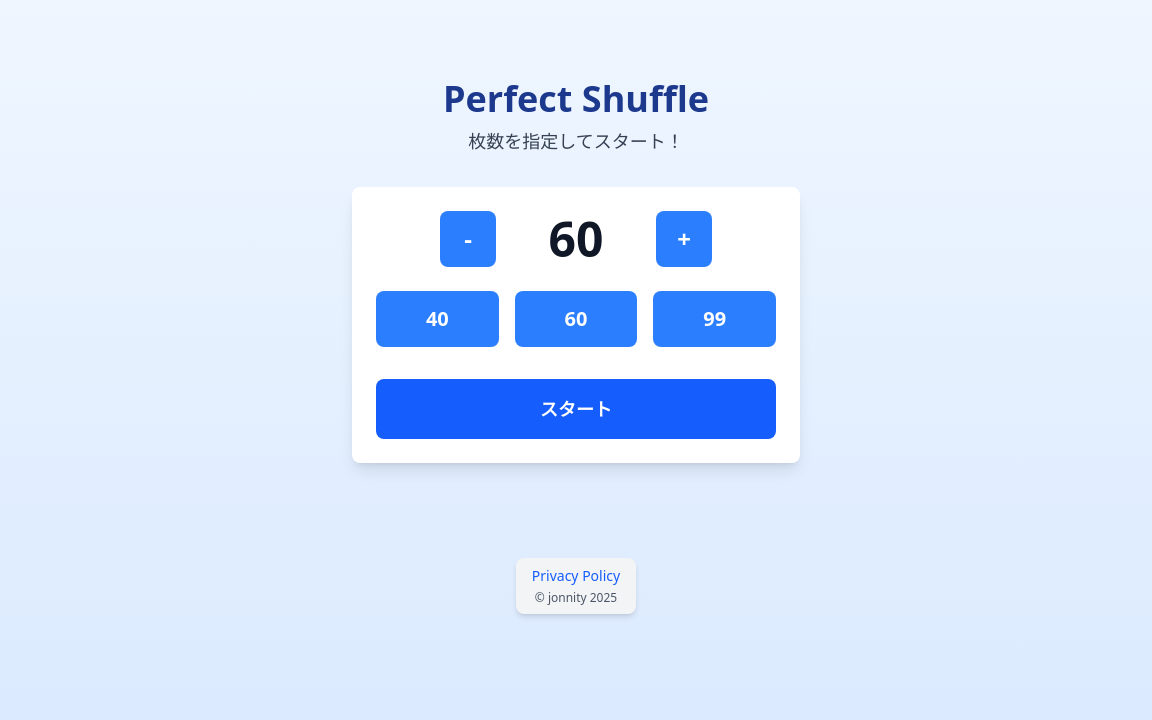
Scenario: ユーザーフロー統合テスト › フロー3: クイック選択と中断フロー › 複数のクイック選択ボタンが正しく動作する
Expected: the heading "Perfect Shuffle" is shown, [443,74,709,123]
Note: クイック選択ボタン（40枚）をクリック
What coordinates should you click on to do the following:
click the button named "40枚を選択"
I would click on:
 (437, 319)
Its box is [376,291,499,347].
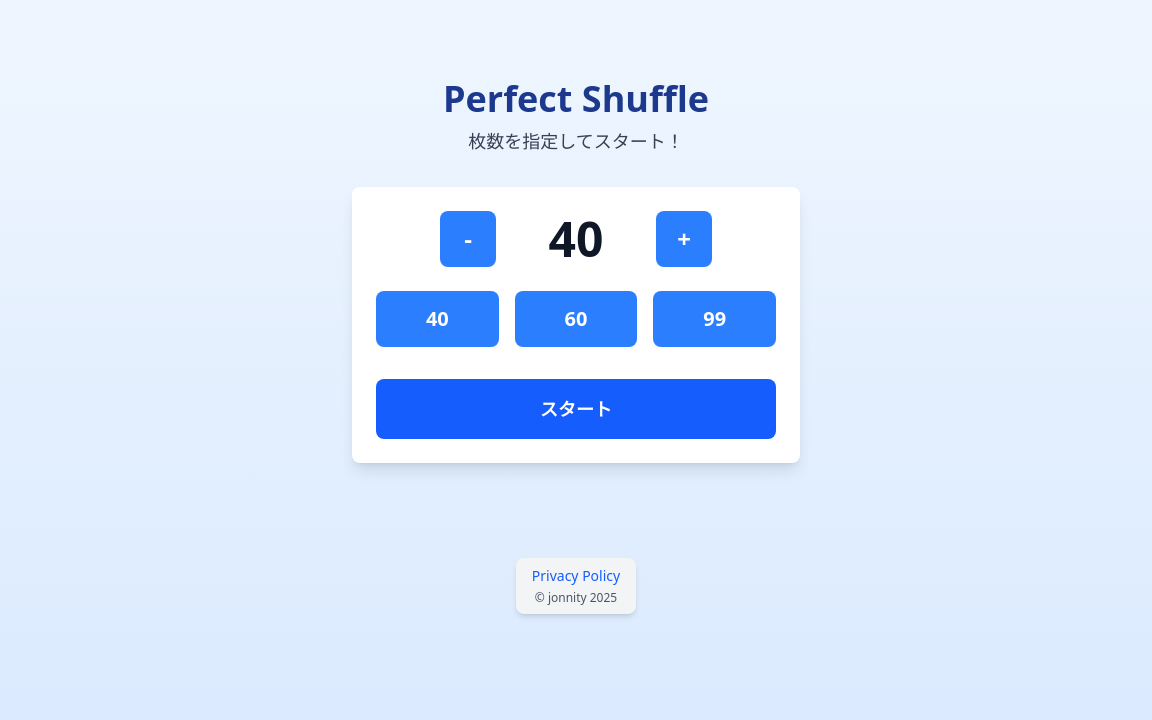
Result: the text "40" is shown at [548,206,603,271]
Note: クイック選択ボタン（60枚）をクリック
What coordinates should you click on to do the following:
click the button named "60枚を選択"
I would click on:
 (576, 319)
Its box is [515,291,637,347].
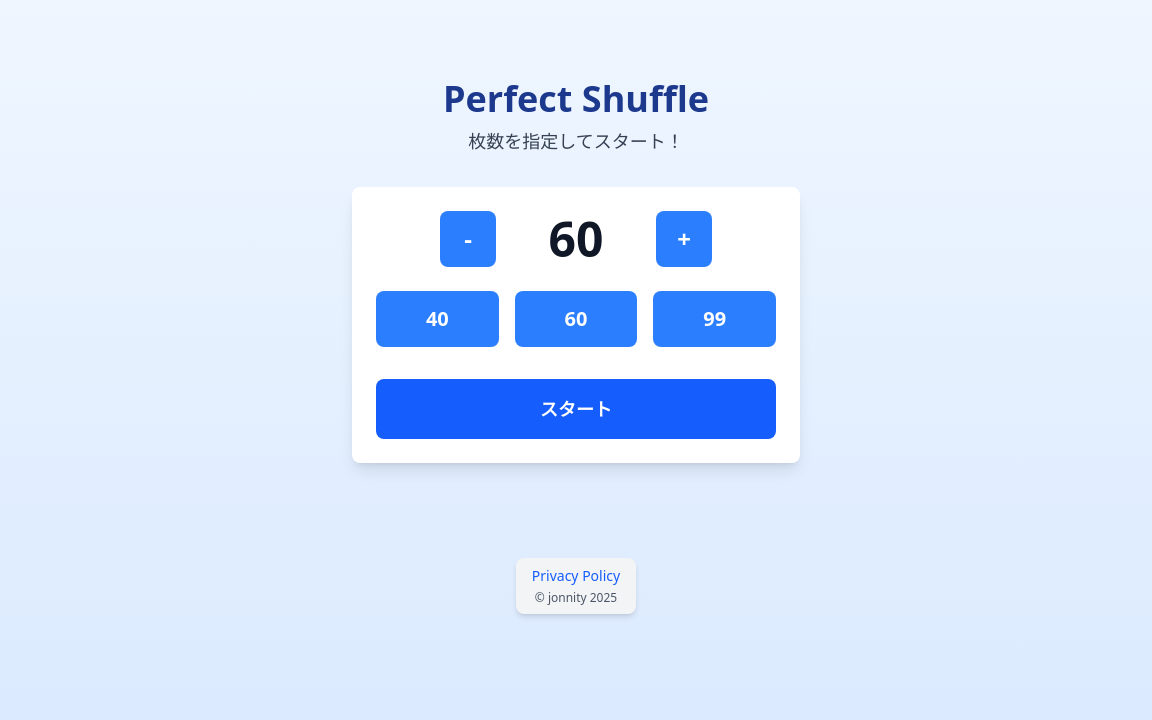
Result: the text "60" is shown at [548,206,603,271]
Note: クイック選択ボタン（99枚）をクリック
What coordinates should you click on to do the following:
click the button named "99枚を選択"
I would click on:
 (715, 319)
Its box is [653,291,776,347].
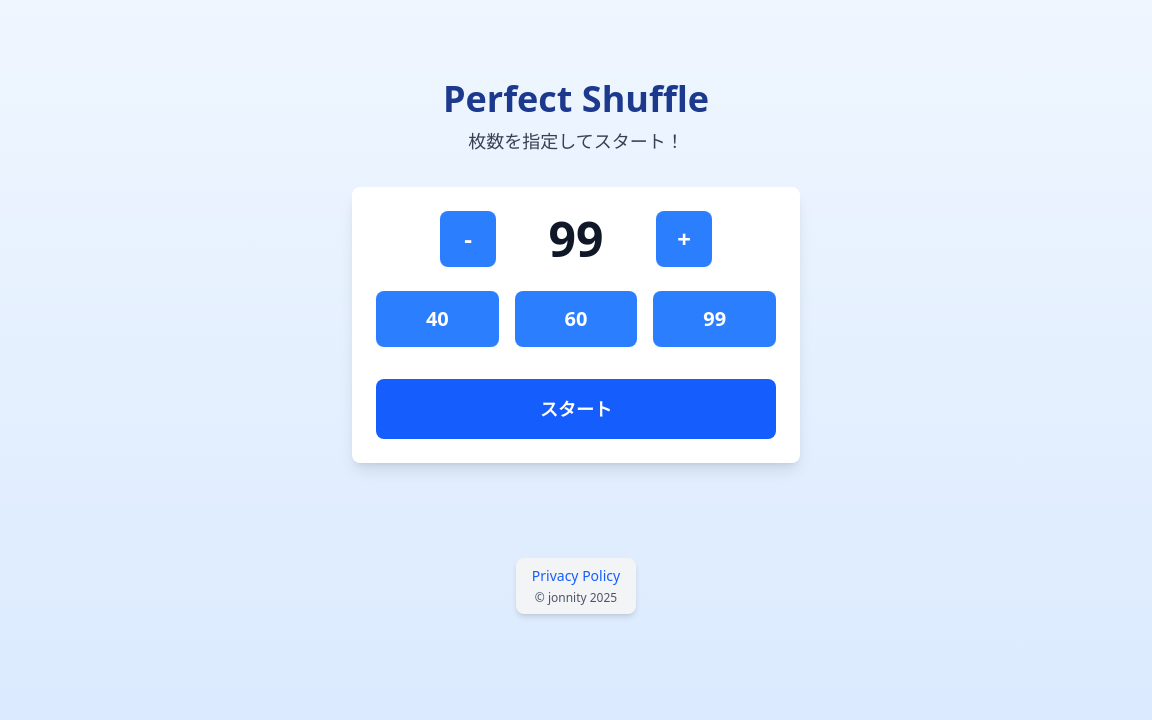
Result: the text "99" is shown at [548,206,603,271]
